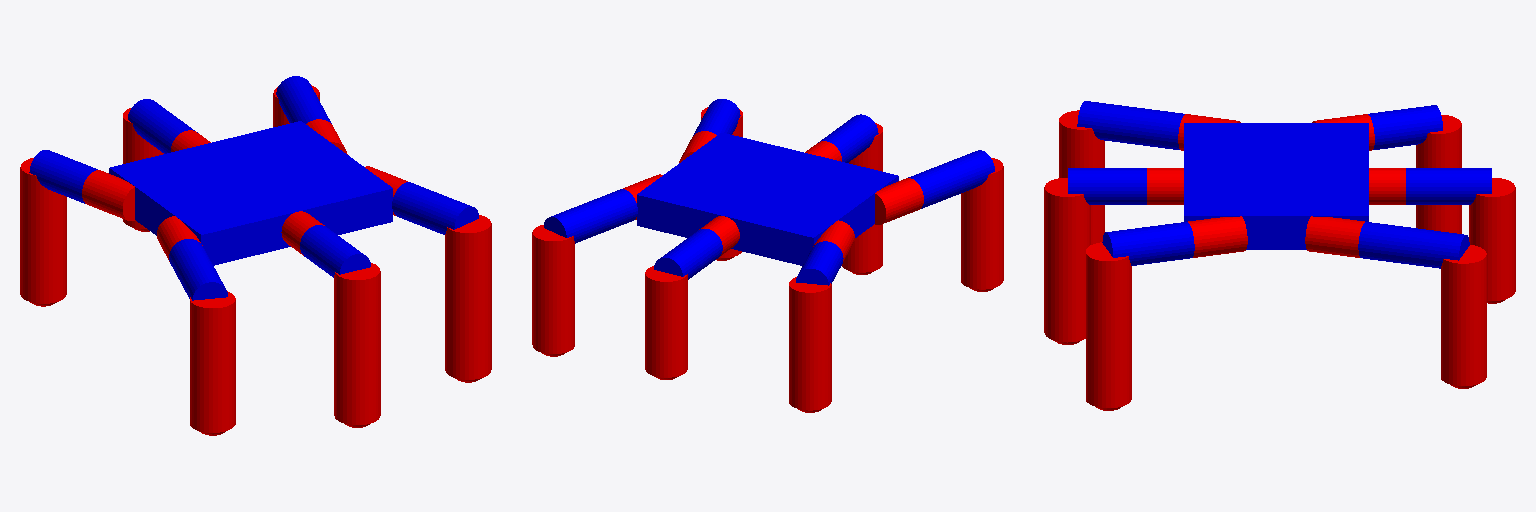
--- Render facts (derived) ---
The picture shows the robot from 3 angles, left to right: view 1: azimuth 30°, elevation 25°; view 2: azimuth 150°, elevation 25°; view 3: azimuth 270°, elevation 25°; orthographic projection.
Robot: pexod — 19 links, 18 joints (18 revolute); root link base_link; default pose: every joint at zero.
Visible links, largest first — view 1: base_link, leg_3_3, leg_4_3, leg_5_3, leg_0_3, leg_3_2, leg_5_2, leg_4_2, leg_0_2, leg_0_1, leg_1_2, leg_2_2 (+3 smaller); view 2: base_link, leg_0_3, leg_2_3, leg_5_3, leg_1_3, leg_2_2, leg_5_2, leg_4_3, leg_1_2, leg_5_1, leg_4_2, leg_0_2 (+3 smaller); view 3: base_link, leg_3_3, leg_4_3, leg_2_3, leg_1_3, leg_2_2, leg_5_2, leg_0_3, leg_3_2, leg_1_2, leg_4_2, leg_5_3 (+5 smaller).
Link boxes in pixels (x1=…): base_link: x1=109, y1=121, x2=392, y2=265; leg_3_3: x1=445, y1=215, x2=491, y2=382; leg_4_3: x1=334, y1=263, x2=380, y2=427; leg_5_3: x1=190, y1=291, x2=235, y2=435; leg_0_3: x1=20, y1=158, x2=66, y2=306; leg_3_2: x1=392, y1=182, x2=478, y2=234; leg_5_2: x1=169, y1=239, x2=227, y2=300; leg_4_2: x1=300, y1=225, x2=370, y2=277; leg_0_2: x1=29, y1=150, x2=97, y2=203; leg_0_1: x1=82, y1=170, x2=134, y2=220; leg_1_2: x1=128, y1=99, x2=197, y2=153; leg_2_2: x1=276, y1=76, x2=331, y2=123; base_link: x1=637, y1=133, x2=898, y2=265; leg_0_3: x1=789, y1=277, x2=831, y2=412; leg_2_3: x1=532, y1=225, x2=574, y2=356; leg_5_3: x1=961, y1=158, x2=1003, y2=291; leg_1_3: x1=645, y1=266, x2=687, y2=379; leg_2_2: x1=544, y1=189, x2=637, y2=243; leg_5_2: x1=908, y1=150, x2=994, y2=208; leg_4_3: x1=842, y1=123, x2=882, y2=274; leg_1_2: x1=654, y1=229, x2=722, y2=279; leg_5_1: x1=875, y1=178, x2=923, y2=224; leg_4_2: x1=818, y1=114, x2=878, y2=162; leg_0_2: x1=796, y1=241, x2=843, y2=285; base_link: x1=1184, y1=123, x2=1368, y2=249; leg_3_3: x1=1086, y1=242, x2=1131, y2=410; leg_4_3: x1=1044, y1=178, x2=1090, y2=344; leg_2_3: x1=1441, y1=245, x2=1486, y2=388; leg_1_3: x1=1469, y1=178, x2=1515, y2=303; leg_2_2: x1=1358, y1=222, x2=1469, y2=268; leg_5_2: x1=1077, y1=101, x2=1184, y2=149; leg_0_3: x1=1416, y1=115, x2=1461, y2=233; leg_3_2: x1=1102, y1=222, x2=1194, y2=265; leg_1_2: x1=1406, y1=168, x2=1491, y2=204; leg_4_2: x1=1068, y1=168, x2=1146, y2=204; leg_5_3: x1=1059, y1=110, x2=1104, y2=244.
Size in the robot's own frame: 0.3925 by 0.5088 by 0.2078 metres.
Geometry: primitives only (box / cylinder / sphere), no mesh files.

robot.urdf — pexod:
<?xml version="1.0" ?>
<!-- =================================================================================== -->
<!-- |    This document was autogenerated by xacro from pexod.xacro                    | -->
<!-- |    EDITING THIS FILE BY HAND IS NOT RECOMMENDED                                 | -->
<!-- =================================================================================== -->
<robot name="pexod" xmlns:xacro="http://www.ros.org/wiki/xacro">
  <!-- <xacro:include filename="$(find pexod_description)/urdf/pexod_control.xacro" /> -->
  <!-- MATERIALS -->
  <material name="Blue">
    <color rgba="0 0 1 1"/>
  </material>
  <material name="Red">
    <color rgba="1 0 0 1"/>
  </material>
  <material name="Green">
    <color rgba="0 1 0 1"/>
  </material>
  <material name="Yellow">
    <color rgba="1 1 0 1"/>
  </material>
  <material name="LightGrey">
    <color rgba="0.6 0.6 0.6 1.0"/>
  </material>
  <!-- END OF MATERIALS -->
  <!-- XACRO MACROS FOR VISUALS AND COLLISIONS -->
  <!-- END OF XACRO MACROS -->
  <!-- TORSO -->
  <link name="base_link">
    <visual>
      <origin rpy="0 0 0" xyz="0 0 0"/>
      <geometry>
        <box size="0.24 0.2 0.04"/>
      </geometry>
      <material name="Blue"/>
    </visual>
    <collision>
      <origin rpy="0 0 0" xyz="0 0 0"/>
      <geometry>
        <box size="0.24 0.2 0.04"/>
      </geometry>
    </collision>
    <inertial>
      <!-- CENTER OF MASS -->
      <origin rpy="0 0 0" xyz="0 0 0"/>
      <mass value="1.031"/>
      <!-- box inertia: 1/12*m(y^2+z^2), ... -->
      <inertia ixx="0.00357413333333" ixy="0" ixz="0" iyy="0.00508626666667" iyz="0" izz="0.00838546666667"/>
    </inertial>
  </link>
  <!-- XACRO MACRO FOR LEGS LINKS/JOINTS -->
  <!-- END OF LEG LINKS/JOINTS -->
  <joint name="body_leg_2" type="revolute">
    <parent link="base_link"/>
    <child link="leg_2_1"/>
    <limit effort="30.0" lower="-1.57079632679" upper="1.57079632679" velocity="7.0"/>
    <origin rpy="0 0 -0.3" xyz="0.11 0.04 0"/>
    <!-- <xacro:if value="${index == 5 or index == 4 or index == 3}">
                <axis xyz="0 0 1"/>
            </xacro:if>
            <xacro:if value="${index == 2 or index == 1 or index == 0}"> -->
    <axis xyz="0 0 1"/>
    <!-- </xacro:if> -->
    <dynamics damping="0.0"/>
  </joint>
  <link name="leg_2_1">
    <visual>
      <origin rpy="1.57079632679 0 0" xyz="0.01 0.03 0"/>
      <geometry>
        <cylinder length="0.06" radius="0.02"/>
      </geometry>
      <material name="Red"/>
    </visual>
    <collision>
      <origin rpy="1.57079632679 0 0" xyz="0.01 0.03 0"/>
      <geometry>
        <box size="0.02 0.02 0.06"/>
      </geometry>
    </collision>
    <inertial>
      <!-- CENTER OF MASS -->
      <origin rpy="1.57079632679 0 0" xyz="0.01 0.03 0"/>
      <mass value="0.02"/>
      <!-- box inertia: 1/12*m(y^2+z^2), ... -->
      <inertia ixx="6.66666666667e-06" ixy="0" ixz="0" iyy="6.66666666667e-06" iyz="0" izz="1.33333333333e-06"/>
    </inertial>
  </link>
  <joint name="leg_2_1_2" type="revolute">
    <parent link="leg_2_1"/>
    <child link="leg_2_2"/>
    <limit effort="30.0" lower="-0.78539816339" upper="0.78539816339" velocity="7.0"/>
    <origin rpy="0 0 0" xyz="0 0.06 0"/>
    <axis xyz="1 0 0"/>
    <dynamics damping="0.0"/>
  </joint>
  <link name="leg_2_2">
    <visual>
      <origin rpy="1.57079632679 0 0" xyz="0.01 0.056743968509 0"/>
      <geometry>
        <cylinder length="0.113487937018" radius="0.02"/>
      </geometry>
      <material name="Blue"/>
    </visual>
    <collision>
      <origin rpy="1.57079632679 0 0" xyz="0.01 0.056743968509 0"/>
      <geometry>
        <box size="0.02 0.02 0.113487937018"/>
      </geometry>
    </collision>
    <inertial>
      <!-- CENTER OF MASS -->
      <origin rpy="1.57079632679 0 0" xyz="0.01 0.056743968509 0"/>
      <mass value="0.184"/>
      <!-- box inertia: 1/12*m(y^2+z^2), ... -->
      <inertia ixx="0.000203619181679" ixy="0" ixz="0" iyy="0.000203619181679" iyz="0" izz="1.22666666667e-05"/>
    </inertial>
  </link>
  <joint name="leg_2_2_3" type="revolute">
    <parent link="leg_2_2"/>
    <child link="leg_2_3"/>
    <limit effort="30.0" lower="-0.78539816339" upper="0.78539816339" velocity="7.0"/>
    <origin rpy="-1.57079632679 0 0" xyz="0 0.113487937018 0"/>
    <axis xyz="-1 0 0"/>
    <dynamics damping="0.0"/>
  </joint>
  <link name="leg_2_3">
    <visual>
      <origin rpy="1.57079632679 0 0" xyz="0.0125 0.073033162298 0"/>
      <geometry>
        <cylinder length="0.146066324596" radius="0.025"/>
      </geometry>
      <material name="Red"/>
    </visual>
    <visual>
      <origin rpy="1.57079632679 0 0" xyz="0.0125 0.133566324596 0"/>
      <geometry>
        <sphere radius="0.025"/>
      </geometry>
      <material name="Red"/>
    </visual>
    <collision>
      <origin rpy="1.57079632679 0 0" xyz="0.0125 0.073033162298 0"/>
      <geometry>
        <box size="0.025 0.025 0.146066324596"/>
      </geometry>
    </collision>
    <collision>
      <origin rpy="1.57079632679 0 0" xyz="0.0125 0.133566324596 0"/>
      <geometry>
        <sphere radius="0.025"/>
      </geometry>
      <material name="Red"/>
    </collision>
    <inertial>
      <!-- CENTER OF MASS -->
      <origin rpy="1.57079632679 0 0" xyz="0.0125 0.073033162298 0"/>
      <mass value="0.04"/>
      <!-- box inertia: 1/12*m(y^2+z^2), ... -->
      <inertia ixx="7.32012372699e-05" ixy="0" ixz="0" iyy="7.32012372699e-05" iyz="0" izz="4.16666666667e-06"/>
    </inertial>
  </link>
  <joint name="body_leg_3" type="revolute">
    <parent link="base_link"/>
    <child link="leg_3_1"/>
    <limit effort="30.0" lower="-1.57079632679" upper="1.57079632679" velocity="7.0"/>
    <origin rpy="0 0 0.3" xyz="0.11 -0.04 0"/>
    <!-- <xacro:if value="${index == 5 or index == 4 or index == 3}">
                <axis xyz="0 0 1"/>
            </xacro:if>
            <xacro:if value="${index == 2 or index == 1 or index == 0}"> -->
    <axis xyz="0 0 1"/>
    <!-- </xacro:if> -->
    <dynamics damping="0.0"/>
  </joint>
  <link name="leg_3_1">
    <visual>
      <origin rpy="1.57079632679 0 0" xyz="0.01 -0.03 0"/>
      <geometry>
        <cylinder length="0.06" radius="0.02"/>
      </geometry>
      <material name="Red"/>
    </visual>
    <collision>
      <origin rpy="1.57079632679 0 0" xyz="0.01 -0.03 0"/>
      <geometry>
        <box size="0.02 0.02 0.06"/>
      </geometry>
    </collision>
    <inertial>
      <!-- CENTER OF MASS -->
      <origin rpy="1.57079632679 0 0" xyz="0.01 -0.03 0"/>
      <mass value="0.02"/>
      <!-- box inertia: 1/12*m(y^2+z^2), ... -->
      <inertia ixx="6.66666666667e-06" ixy="0" ixz="0" iyy="6.66666666667e-06" iyz="0" izz="1.33333333333e-06"/>
    </inertial>
  </link>
  <joint name="leg_3_1_2" type="revolute">
    <parent link="leg_3_1"/>
    <child link="leg_3_2"/>
    <limit effort="30.0" lower="-0.78539816339" upper="0.78539816339" velocity="7.0"/>
    <origin rpy="0 0 0" xyz="0 -0.06 0"/>
    <axis xyz="-1 0 0"/>
    <dynamics damping="0.0"/>
  </joint>
  <link name="leg_3_2">
    <visual>
      <origin rpy="1.57079632679 0 0" xyz="0.01 -0.0459247627114 0"/>
      <geometry>
        <cylinder length="0.0918495254229" radius="0.02"/>
      </geometry>
      <material name="Blue"/>
    </visual>
    <collision>
      <origin rpy="1.57079632679 0 0" xyz="0.01 -0.0459247627114 0"/>
      <geometry>
        <box size="0.02 0.02 0.0918495254229"/>
      </geometry>
    </collision>
    <inertial>
      <!-- CENTER OF MASS -->
      <origin rpy="1.57079632679 0 0" xyz="0.01 -0.0459247627114 0"/>
      <mass value="0.184"/>
      <!-- box inertia: 1/12*m(y^2+z^2), ... -->
      <inertia ixx="0.000135490474913" ixy="0" ixz="0" iyy="0.000135490474913" iyz="0" izz="1.22666666667e-05"/>
    </inertial>
  </link>
  <joint name="leg_3_2_3" type="revolute">
    <parent link="leg_3_2"/>
    <child link="leg_3_3"/>
    <limit effort="30.0" lower="-0.78539816339" upper="0.78539816339" velocity="7.0"/>
    <origin rpy="1.57079632679 0 0" xyz="0 -0.0918495254229 0"/>
    <axis xyz="1 0 0"/>
    <dynamics damping="0.0"/>
  </joint>
  <link name="leg_3_3">
    <visual>
      <origin rpy="1.57079632679 0 0" xyz="0.0125 -0.087670270523 0"/>
      <geometry>
        <cylinder length="0.175340541046" radius="0.025"/>
      </geometry>
      <material name="Red"/>
    </visual>
    <visual>
      <origin rpy="1.57079632679 0 0" xyz="0.0125 -0.162840541046 0"/>
      <geometry>
        <sphere radius="0.025"/>
      </geometry>
      <material name="Red"/>
    </visual>
    <collision>
      <origin rpy="1.57079632679 0 0" xyz="0.0125 -0.087670270523 0"/>
      <geometry>
        <box size="0.025 0.025 0.175340541046"/>
      </geometry>
    </collision>
    <collision>
      <origin rpy="1.57079632679 0 0" xyz="0.0125 -0.162840541046 0"/>
      <geometry>
        <sphere radius="0.025"/>
      </geometry>
      <material name="Red"/>
    </collision>
    <inertial>
      <!-- CENTER OF MASS -->
      <origin rpy="1.57079632679 0 0" xyz="0.0125 -0.087670270523 0"/>
      <mass value="0.04"/>
      <!-- box inertia: 1/12*m(y^2+z^2), ... -->
      <inertia ixx="0.000104564351114" ixy="0" ixz="0" iyy="0.000104564351114" iyz="0" izz="4.16666666667e-06"/>
    </inertial>
  </link>
  <joint name="body_leg_0" type="revolute">
    <parent link="base_link"/>
    <child link="leg_0_1"/>
    <limit effort="30.0" lower="-1.57079632679" upper="1.57079632679" velocity="7.0"/>
    <origin rpy="0 0 0.3" xyz="-0.13 0.04 0"/>
    <!-- <xacro:if value="${index == 5 or index == 4 or index == 3}">
                <axis xyz="0 0 1"/>
            </xacro:if>
            <xacro:if value="${index == 2 or index == 1 or index == 0}"> -->
    <axis xyz="0 0 1"/>
    <!-- </xacro:if> -->
    <dynamics damping="0.0"/>
  </joint>
  <link name="leg_0_1">
    <visual>
      <origin rpy="1.57079632679 0 0" xyz="0.01 0.03 0"/>
      <geometry>
        <cylinder length="0.06" radius="0.02"/>
      </geometry>
      <material name="Red"/>
    </visual>
    <collision>
      <origin rpy="1.57079632679 0 0" xyz="0.01 0.03 0"/>
      <geometry>
        <box size="0.02 0.02 0.06"/>
      </geometry>
    </collision>
    <inertial>
      <!-- CENTER OF MASS -->
      <origin rpy="1.57079632679 0 0" xyz="0.01 0.03 0"/>
      <mass value="0.02"/>
      <!-- box inertia: 1/12*m(y^2+z^2), ... -->
      <inertia ixx="6.66666666667e-06" ixy="0" ixz="0" iyy="6.66666666667e-06" iyz="0" izz="1.33333333333e-06"/>
    </inertial>
  </link>
  <joint name="leg_0_1_2" type="revolute">
    <parent link="leg_0_1"/>
    <child link="leg_0_2"/>
    <limit effort="30.0" lower="-0.78539816339" upper="0.78539816339" velocity="7.0"/>
    <origin rpy="0 0 0" xyz="0 0.06 0"/>
    <axis xyz="1 0 0"/>
    <dynamics damping="0.0"/>
  </joint>
  <link name="leg_0_2">
    <visual>
      <origin rpy="1.57079632679 0 0" xyz="0.01 0.038748524821 0"/>
      <geometry>
        <cylinder length="0.0774970496419" radius="0.02"/>
      </geometry>
      <material name="Blue"/>
    </visual>
    <collision>
      <origin rpy="1.57079632679 0 0" xyz="0.01 0.038748524821 0"/>
      <geometry>
        <box size="0.02 0.02 0.0774970496419"/>
      </geometry>
    </collision>
    <inertial>
      <!-- CENTER OF MASS -->
      <origin rpy="1.57079632679 0 0" xyz="0.01 0.038748524821 0"/>
      <mass value="0.184"/>
      <!-- box inertia: 1/12*m(y^2+z^2), ... -->
      <inertia ixx="9.82221547824e-05" ixy="0" ixz="0" iyy="9.82221547824e-05" iyz="0" izz="1.22666666667e-05"/>
    </inertial>
  </link>
  <joint name="leg_0_2_3" type="revolute">
    <parent link="leg_0_2"/>
    <child link="leg_0_3"/>
    <limit effort="30.0" lower="-0.78539816339" upper="0.78539816339" velocity="7.0"/>
    <origin rpy="-1.57079632679 0 0" xyz="0 0.0774970496419 0"/>
    <axis xyz="-1 0 0"/>
    <dynamics damping="0.0"/>
  </joint>
  <link name="leg_0_3">
    <visual>
      <origin rpy="1.57079632679 0 0" xyz="0.0125 0.076230582345 0"/>
      <geometry>
        <cylinder length="0.15246116469" radius="0.025"/>
      </geometry>
      <material name="Red"/>
    </visual>
    <visual>
      <origin rpy="1.57079632679 0 0" xyz="0.0125 0.13996116469 0"/>
      <geometry>
        <sphere radius="0.025"/>
      </geometry>
      <material name="Red"/>
    </visual>
    <collision>
      <origin rpy="1.57079632679 0 0" xyz="0.0125 0.076230582345 0"/>
      <geometry>
        <box size="0.025 0.025 0.15246116469"/>
      </geometry>
    </collision>
    <collision>
      <origin rpy="1.57079632679 0 0" xyz="0.0125 0.13996116469 0"/>
      <geometry>
        <sphere radius="0.025"/>
      </geometry>
      <material name="Red"/>
    </collision>
    <inertial>
      <!-- CENTER OF MASS -->
      <origin rpy="1.57079632679 0 0" xyz="0.0125 0.076230582345 0"/>
      <mass value="0.04"/>
      <!-- box inertia: 1/12*m(y^2+z^2), ... -->
      <inertia ixx="7.95646891288e-05" ixy="0" ixz="0" iyy="7.95646891288e-05" iyz="0" izz="4.16666666667e-06"/>
    </inertial>
  </link>
  <joint name="body_leg_5" type="revolute">
    <parent link="base_link"/>
    <child link="leg_5_1"/>
    <limit effort="30.0" lower="-1.57079632679" upper="1.57079632679" velocity="7.0"/>
    <origin rpy="0 0 -0.3" xyz="-0.13 -0.04 0"/>
    <!-- <xacro:if value="${index == 5 or index == 4 or index == 3}">
                <axis xyz="0 0 1"/>
            </xacro:if>
            <xacro:if value="${index == 2 or index == 1 or index == 0}"> -->
    <axis xyz="0 0 1"/>
    <!-- </xacro:if> -->
    <dynamics damping="0.0"/>
  </joint>
  <link name="leg_5_1">
    <visual>
      <origin rpy="1.57079632679 0 0" xyz="0.01 -0.03 0"/>
      <geometry>
        <cylinder length="0.06" radius="0.02"/>
      </geometry>
      <material name="Red"/>
    </visual>
    <collision>
      <origin rpy="1.57079632679 0 0" xyz="0.01 -0.03 0"/>
      <geometry>
        <box size="0.02 0.02 0.06"/>
      </geometry>
    </collision>
    <inertial>
      <!-- CENTER OF MASS -->
      <origin rpy="1.57079632679 0 0" xyz="0.01 -0.03 0"/>
      <mass value="0.02"/>
      <!-- box inertia: 1/12*m(y^2+z^2), ... -->
      <inertia ixx="6.66666666667e-06" ixy="0" ixz="0" iyy="6.66666666667e-06" iyz="0" izz="1.33333333333e-06"/>
    </inertial>
  </link>
  <joint name="leg_5_1_2" type="revolute">
    <parent link="leg_5_1"/>
    <child link="leg_5_2"/>
    <limit effort="30.0" lower="-0.78539816339" upper="0.78539816339" velocity="7.0"/>
    <origin rpy="0 0 0" xyz="0 -0.06 0"/>
    <axis xyz="-1 0 0"/>
    <dynamics damping="0.0"/>
  </joint>
  <link name="leg_5_2">
    <visual>
      <origin rpy="1.57079632679 0 0" xyz="0.01 -0.0569882677735 0"/>
      <geometry>
        <cylinder length="0.113976535547" radius="0.02"/>
      </geometry>
      <material name="Blue"/>
    </visual>
    <collision>
      <origin rpy="1.57079632679 0 0" xyz="0.01 -0.0569882677735 0"/>
      <geometry>
        <box size="0.02 0.02 0.113976535547"/>
      </geometry>
    </collision>
    <inertial>
      <!-- CENTER OF MASS -->
      <origin rpy="1.57079632679 0 0" xyz="0.01 -0.0569882677735 0"/>
      <mass value="0.184"/>
      <!-- box inertia: 1/12*m(y^2+z^2), ... -->
      <inertia ixx="0.000205323310048" ixy="0" ixz="0" iyy="0.000205323310048" iyz="0" izz="1.22666666667e-05"/>
    </inertial>
  </link>
  <joint name="leg_5_2_3" type="revolute">
    <parent link="leg_5_2"/>
    <child link="leg_5_3"/>
    <limit effort="30.0" lower="-0.78539816339" upper="0.78539816339" velocity="7.0"/>
    <origin rpy="1.57079632679 0 0" xyz="0 -0.113976535547 0"/>
    <axis xyz="1 0 0"/>
    <dynamics damping="0.0"/>
  </joint>
  <link name="leg_5_3">
    <visual>
      <origin rpy="1.57079632679 0 0" xyz="0.0125 -0.074418432726 0"/>
      <geometry>
        <cylinder length="0.148836865452" radius="0.025"/>
      </geometry>
      <material name="Red"/>
    </visual>
    <visual>
      <origin rpy="1.57079632679 0 0" xyz="0.0125 -0.136336865452 0"/>
      <geometry>
        <sphere radius="0.025"/>
      </geometry>
      <material name="Red"/>
    </visual>
    <collision>
      <origin rpy="1.57079632679 0 0" xyz="0.0125 -0.074418432726 0"/>
      <geometry>
        <box size="0.025 0.025 0.148836865452"/>
      </geometry>
    </collision>
    <collision>
      <origin rpy="1.57079632679 0 0" xyz="0.0125 -0.136336865452 0"/>
      <geometry>
        <sphere radius="0.025"/>
      </geometry>
      <material name="Red"/>
    </collision>
    <inertial>
      <!-- CENTER OF MASS -->
      <origin rpy="1.57079632679 0 0" xyz="0.0125 -0.074418432726 0"/>
      <mass value="0.04"/>
      <!-- box inertia: 1/12*m(y^2+z^2), ... -->
      <inertia ixx="7.59247083919e-05" ixy="0" ixz="0" iyy="7.59247083919e-05" iyz="0" izz="4.16666666667e-06"/>
    </inertial>
  </link>
  <joint name="body_leg_1" type="revolute">
    <parent link="base_link"/>
    <child link="leg_1_1"/>
    <limit effort="30.0" lower="-1.57079632679" upper="1.57079632679" velocity="7.0"/>
    <origin rpy="0 0 0" xyz="-0.01 0.08 0"/>
    <!-- <xacro:if value="${index == 5 or index == 4 or index == 3}">
                <axis xyz="0 0 1"/>
            </xacro:if>
            <xacro:if value="${index == 2 or index == 1 or index == 0}"> -->
    <axis xyz="0 0 1"/>
    <!-- </xacro:if> -->
    <dynamics damping="0.0"/>
  </joint>
  <link name="leg_1_1">
    <visual>
      <origin rpy="1.57079632679 0 0" xyz="0.01 0.03 0"/>
      <geometry>
        <cylinder length="0.06" radius="0.02"/>
      </geometry>
      <material name="Red"/>
    </visual>
    <collision>
      <origin rpy="1.57079632679 0 0" xyz="0.01 0.03 0"/>
      <geometry>
        <box size="0.02 0.02 0.06"/>
      </geometry>
    </collision>
    <inertial>
      <!-- CENTER OF MASS -->
      <origin rpy="1.57079632679 0 0" xyz="0.01 0.03 0"/>
      <mass value="0.02"/>
      <!-- box inertia: 1/12*m(y^2+z^2), ... -->
      <inertia ixx="6.66666666667e-06" ixy="0" ixz="0" iyy="6.66666666667e-06" iyz="0" izz="1.33333333333e-06"/>
    </inertial>
  </link>
  <joint name="leg_1_1_2" type="revolute">
    <parent link="leg_1_1"/>
    <child link="leg_1_2"/>
    <limit effort="30.0" lower="-0.78539816339" upper="0.78539816339" velocity="7.0"/>
    <origin rpy="0 0 0" xyz="0 0.06 0"/>
    <axis xyz="1 0 0"/>
    <dynamics damping="0.0"/>
  </joint>
  <link name="leg_1_2">
    <visual>
      <origin rpy="1.57079632679 0 0" xyz="0.01 0.0465862743483 0"/>
      <geometry>
        <cylinder length="0.0931725486966" radius="0.02"/>
      </geometry>
      <material name="Blue"/>
    </visual>
    <collision>
      <origin rpy="1.57079632679 0 0" xyz="0.01 0.0465862743483 0"/>
      <geometry>
        <box size="0.02 0.02 0.0931725486966"/>
      </geometry>
    </collision>
    <inertial>
      <!-- CENTER OF MASS -->
      <origin rpy="1.57079632679 0 0" xyz="0.01 0.0465862743483 0"/>
      <mass value="0.184"/>
      <!-- box inertia: 1/12*m(y^2+z^2), ... -->
      <inertia ixx="0.000139243898736" ixy="0" ixz="0" iyy="0.000139243898736" iyz="0" izz="1.22666666667e-05"/>
    </inertial>
  </link>
  <joint name="leg_1_2_3" type="revolute">
    <parent link="leg_1_2"/>
    <child link="leg_1_3"/>
    <limit effort="30.0" lower="-0.78539816339" upper="0.78539816339" velocity="7.0"/>
    <origin rpy="-1.57079632679 0 0" xyz="0 0.0931725486966 0"/>
    <axis xyz="-1 0 0"/>
    <dynamics damping="0.0"/>
  </joint>
  <link name="leg_1_3">
    <visual>
      <origin rpy="1.57079632679 0 0" xyz="0.0125 0.0620857947425 0"/>
      <geometry>
        <cylinder length="0.124171589485" radius="0.025"/>
      </geometry>
      <material name="Red"/>
    </visual>
    <visual>
      <origin rpy="1.57079632679 0 0" xyz="0.0125 0.111671589485 0"/>
      <geometry>
        <sphere radius="0.025"/>
      </geometry>
      <material name="Red"/>
    </visual>
    <collision>
      <origin rpy="1.57079632679 0 0" xyz="0.0125 0.0620857947425 0"/>
      <geometry>
        <box size="0.025 0.025 0.124171589485"/>
      </geometry>
    </collision>
    <collision>
      <origin rpy="1.57079632679 0 0" xyz="0.0125 0.111671589485 0"/>
      <geometry>
        <sphere radius="0.025"/>
      </geometry>
      <material name="Red"/>
    </collision>
    <inertial>
      <!-- CENTER OF MASS -->
      <origin rpy="1.57079632679 0 0" xyz="0.0125 0.0620857947425 0"/>
      <mass value="0.04"/>
      <!-- box inertia: 1/12*m(y^2+z^2), ... -->
      <inertia ixx="5.34786121174e-05" ixy="0" ixz="0" iyy="5.34786121174e-05" iyz="0" izz="4.16666666667e-06"/>
    </inertial>
  </link>
  <joint name="body_leg_4" type="revolute">
    <parent link="base_link"/>
    <child link="leg_4_1"/>
    <limit effort="30.0" lower="-1.57079632679" upper="1.57079632679" velocity="7.0"/>
    <origin rpy="0 0 0" xyz="-0.01 -0.08 0"/>
    <!-- <xacro:if value="${index == 5 or index == 4 or index == 3}">
                <axis xyz="0 0 1"/>
            </xacro:if>
            <xacro:if value="${index == 2 or index == 1 or index == 0}"> -->
    <axis xyz="0 0 1"/>
    <!-- </xacro:if> -->
    <dynamics damping="0.0"/>
  </joint>
  <link name="leg_4_1">
    <visual>
      <origin rpy="1.57079632679 0 0" xyz="0.01 -0.03 0"/>
      <geometry>
        <cylinder length="0.06" radius="0.02"/>
      </geometry>
      <material name="Red"/>
    </visual>
    <collision>
      <origin rpy="1.57079632679 0 0" xyz="0.01 -0.03 0"/>
      <geometry>
        <box size="0.02 0.02 0.06"/>
      </geometry>
    </collision>
    <inertial>
      <!-- CENTER OF MASS -->
      <origin rpy="1.57079632679 0 0" xyz="0.01 -0.03 0"/>
      <mass value="0.02"/>
      <!-- box inertia: 1/12*m(y^2+z^2), ... -->
      <inertia ixx="6.66666666667e-06" ixy="0" ixz="0" iyy="6.66666666667e-06" iyz="0" izz="1.33333333333e-06"/>
    </inertial>
  </link>
  <joint name="leg_4_1_2" type="revolute">
    <parent link="leg_4_1"/>
    <child link="leg_4_2"/>
    <limit effort="30.0" lower="-0.78539816339" upper="0.78539816339" velocity="7.0"/>
    <origin rpy="0 0 0" xyz="0 -0.06 0"/>
    <axis xyz="-1 0 0"/>
    <dynamics damping="0.0"/>
  </joint>
  <link name="leg_4_2">
    <visual>
      <origin rpy="1.57079632679 0 0" xyz="0.01 -0.042828873387 0"/>
      <geometry>
        <cylinder length="0.085657746774" radius="0.02"/>
      </geometry>
      <material name="Blue"/>
    </visual>
    <collision>
      <origin rpy="1.57079632679 0 0" xyz="0.01 -0.042828873387 0"/>
      <geometry>
        <box size="0.02 0.02 0.085657746774"/>
      </geometry>
    </collision>
    <inertial>
      <!-- CENTER OF MASS -->
      <origin rpy="1.57079632679 0 0" xyz="0.01 -0.042828873387 0"/>
      <mass value="0.184"/>
      <!-- box inertia: 1/12*m(y^2+z^2), ... -->
      <inertia ixx="0.00011863782693" ixy="0" ixz="0" iyy="0.00011863782693" iyz="0" izz="1.22666666667e-05"/>
    </inertial>
  </link>
  <joint name="leg_4_2_3" type="revolute">
    <parent link="leg_4_2"/>
    <child link="leg_4_3"/>
    <limit effort="30.0" lower="-0.78539816339" upper="0.78539816339" velocity="7.0"/>
    <origin rpy="1.57079632679 0 0" xyz="0 -0.085657746774 0"/>
    <axis xyz="1 0 0"/>
    <dynamics damping="0.0"/>
  </joint>
  <link name="leg_4_3">
    <visual>
      <origin rpy="1.57079632679 0 0" xyz="0.0125 -0.0866803260065 0"/>
      <geometry>
        <cylinder length="0.173360652013" radius="0.025"/>
      </geometry>
      <material name="Red"/>
    </visual>
    <visual>
      <origin rpy="1.57079632679 0 0" xyz="0.0125 -0.160860652013 0"/>
      <geometry>
        <sphere radius="0.025"/>
      </geometry>
      <material name="Red"/>
    </visual>
    <collision>
      <origin rpy="1.57079632679 0 0" xyz="0.0125 -0.0866803260065 0"/>
      <geometry>
        <box size="0.025 0.025 0.173360652013"/>
      </geometry>
    </collision>
    <collision>
      <origin rpy="1.57079632679 0 0" xyz="0.0125 -0.160860652013 0"/>
      <geometry>
        <sphere radius="0.025"/>
      </geometry>
      <material name="Red"/>
    </collision>
    <inertial>
      <!-- CENTER OF MASS -->
      <origin rpy="1.57079632679 0 0" xyz="0.0125 -0.0866803260065 0"/>
      <mass value="0.04"/>
      <!-- box inertia: 1/12*m(y^2+z^2), ... -->
      <inertia ixx="0.000102263052221" ixy="0" ixz="0" iyy="0.000102263052221" iyz="0" izz="4.16666666667e-06"/>
    </inertial>
  </link>
  <!-- END OF LEG LINKS/JOINTS -->
</robot>
